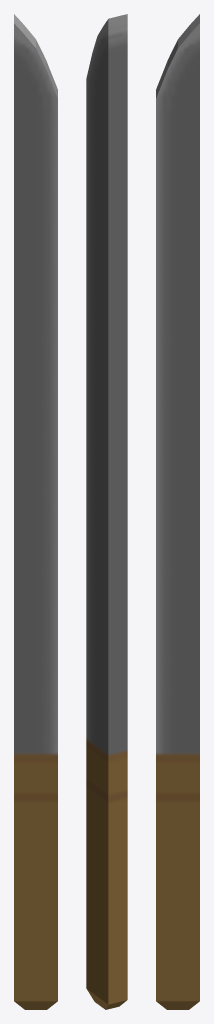
Rendered from Sword_01.fbx.
The picture shows the model from 3 angles, left to right: view 1: azimuth 90°, elevation 25°; view 2: azimuth 210°, elevation 25°; view 3: azimuth 270°, elevation 25°; orthographic projection.
Visible parts, largest first — view 1: Sword_01; view 2: Sword_01; view 3: Sword_01.
Boxes of the visible parts, x1,y1,x2,y2 form: Sword_01: (14, 14, 57, 1009); Sword_01: (86, 14, 127, 1009); Sword_01: (156, 14, 199, 1009).
Bounding box in the file's own units: 7 × 349 × 14.
Materials: 1 (1 with a texture image).
